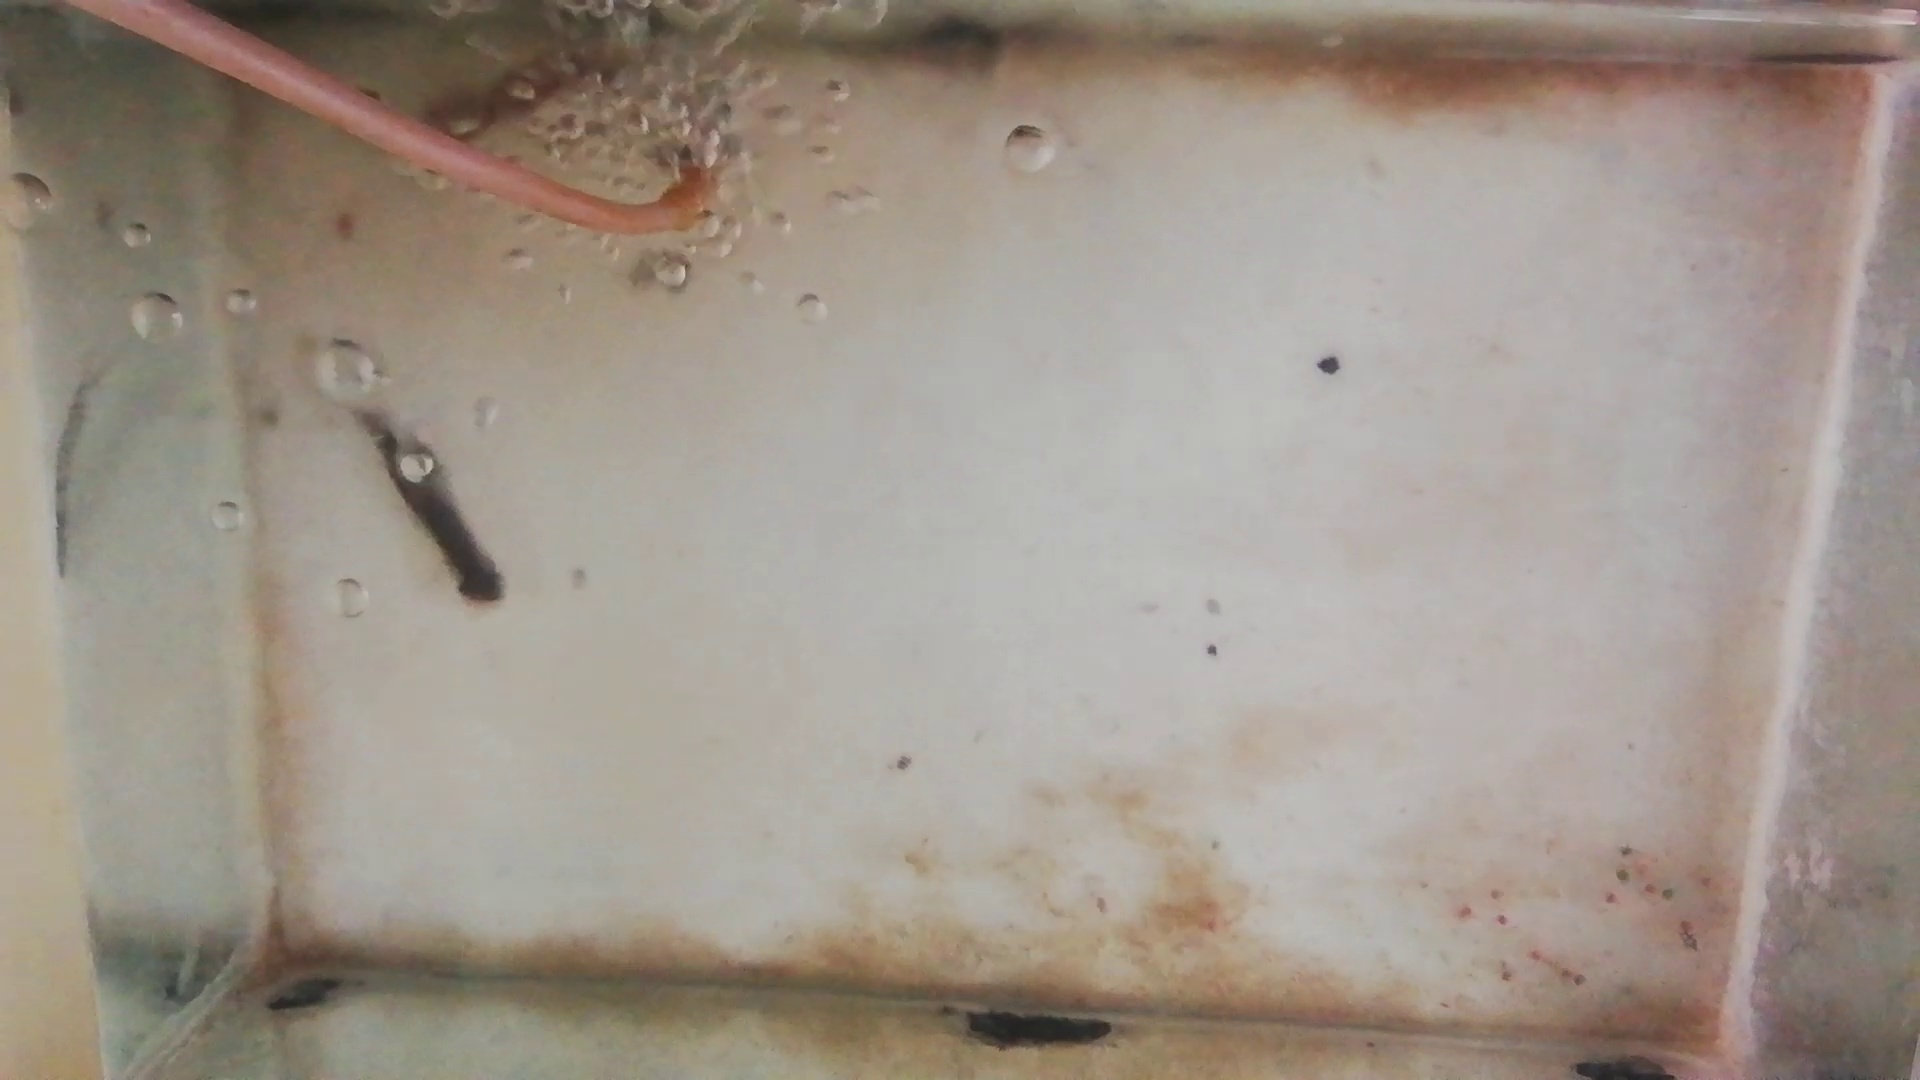fish: (349, 392, 509, 607), (419, 51, 599, 138)
